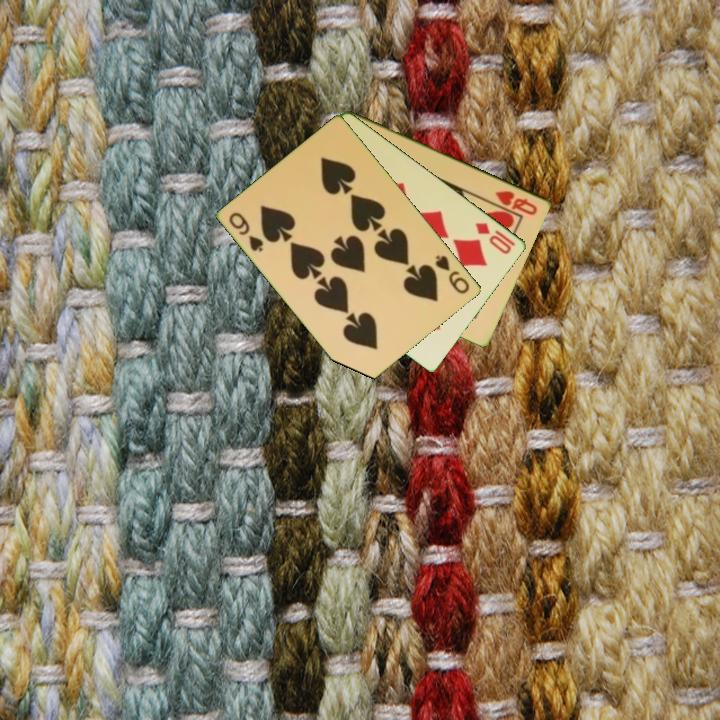10d: (472, 219, 518, 257)
9s: (432, 251, 473, 297), (226, 209, 267, 255)
Qh: (492, 187, 541, 218)
